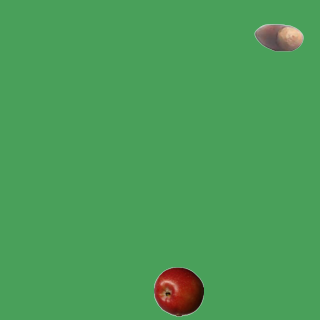Apple Braeburn: (153, 266, 203, 316)
Hazelnut: (253, 12, 303, 62)
